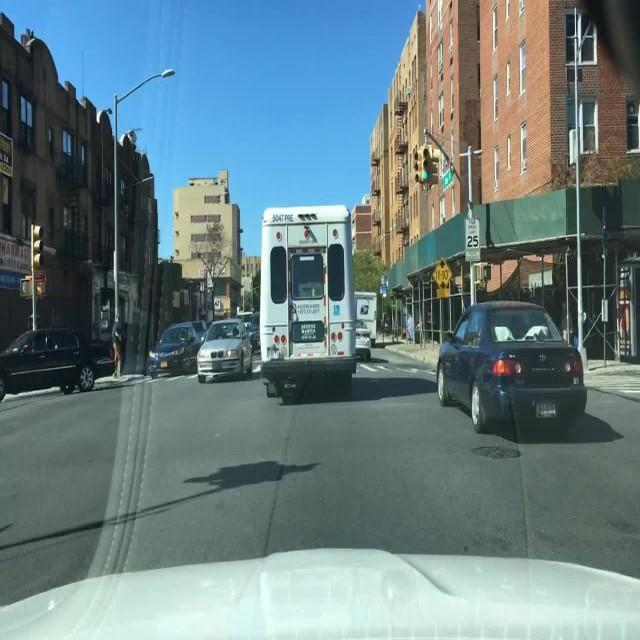normal: (431, 304, 583, 446), (255, 204, 354, 404), (0, 327, 116, 399), (194, 320, 259, 384), (149, 321, 211, 377)
